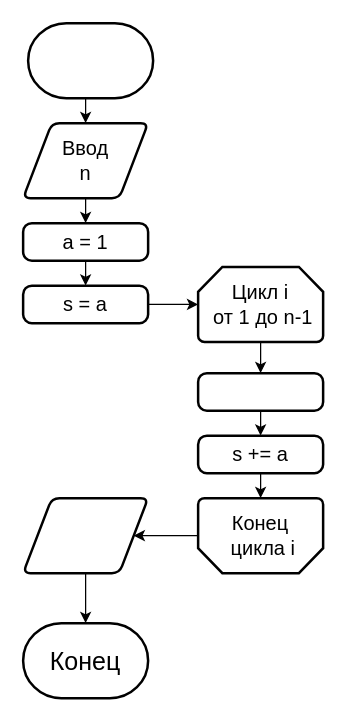
Image size: 345x720. Some labels were removed from this diagram. The centre of each missing label's shape, as x and y in pixels:
"a /= -2" belongs at point 260,391.
"Вывод s" belongs at point 85,535.
"Начало" belongs at point 90,60.
